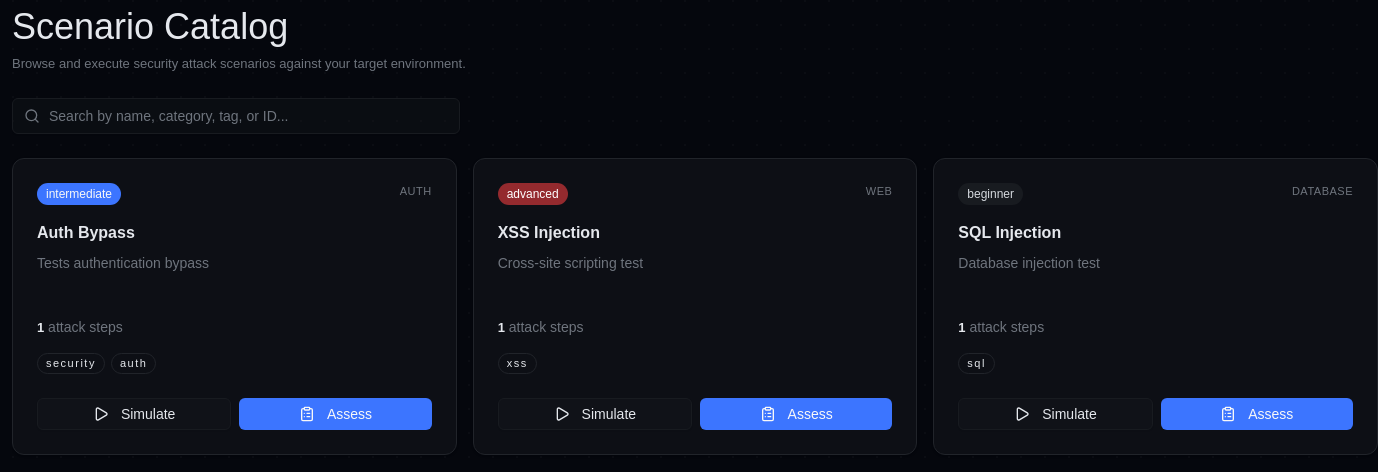
Test: ScenariosPage › filters scenarios by category
Step 1. Type "database" into the field with placeholder "Search by name, category, tag, or ID..." → [236, 116], box [12,98,460,134]
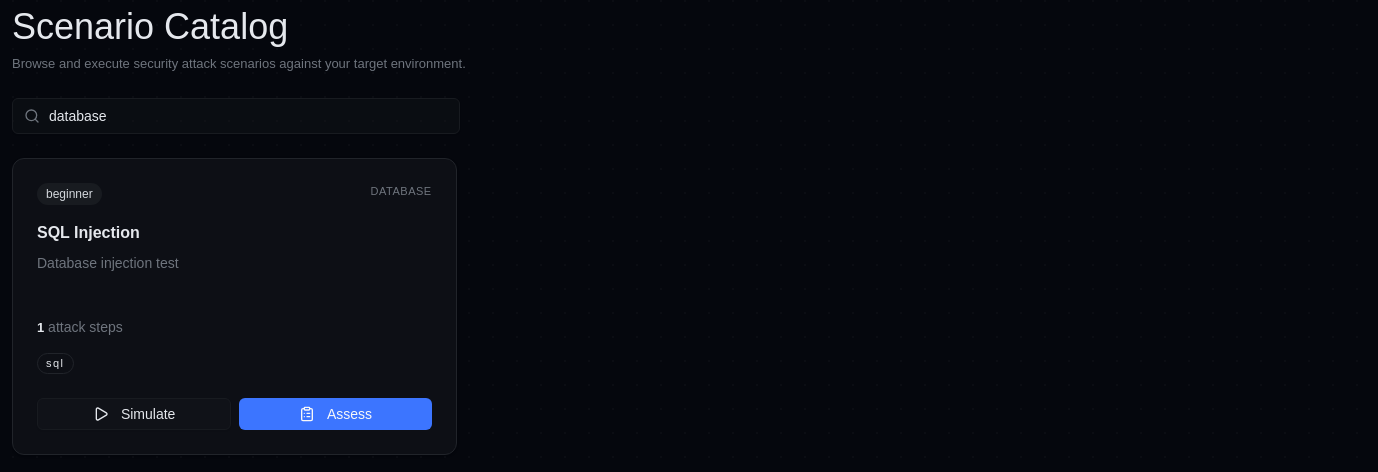
Expected: the text "SQL Injection" is shown, [37,224,140,240]
Result: the text "Auth Bypass" is gone
